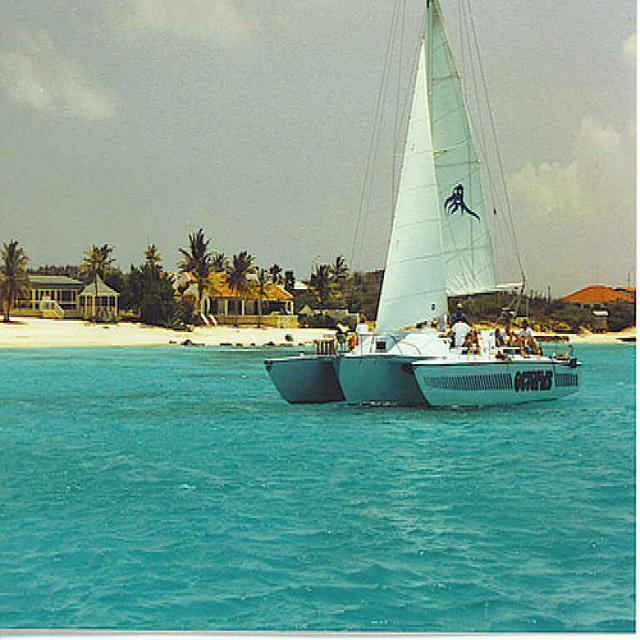Ship: (270, 1, 584, 410)
